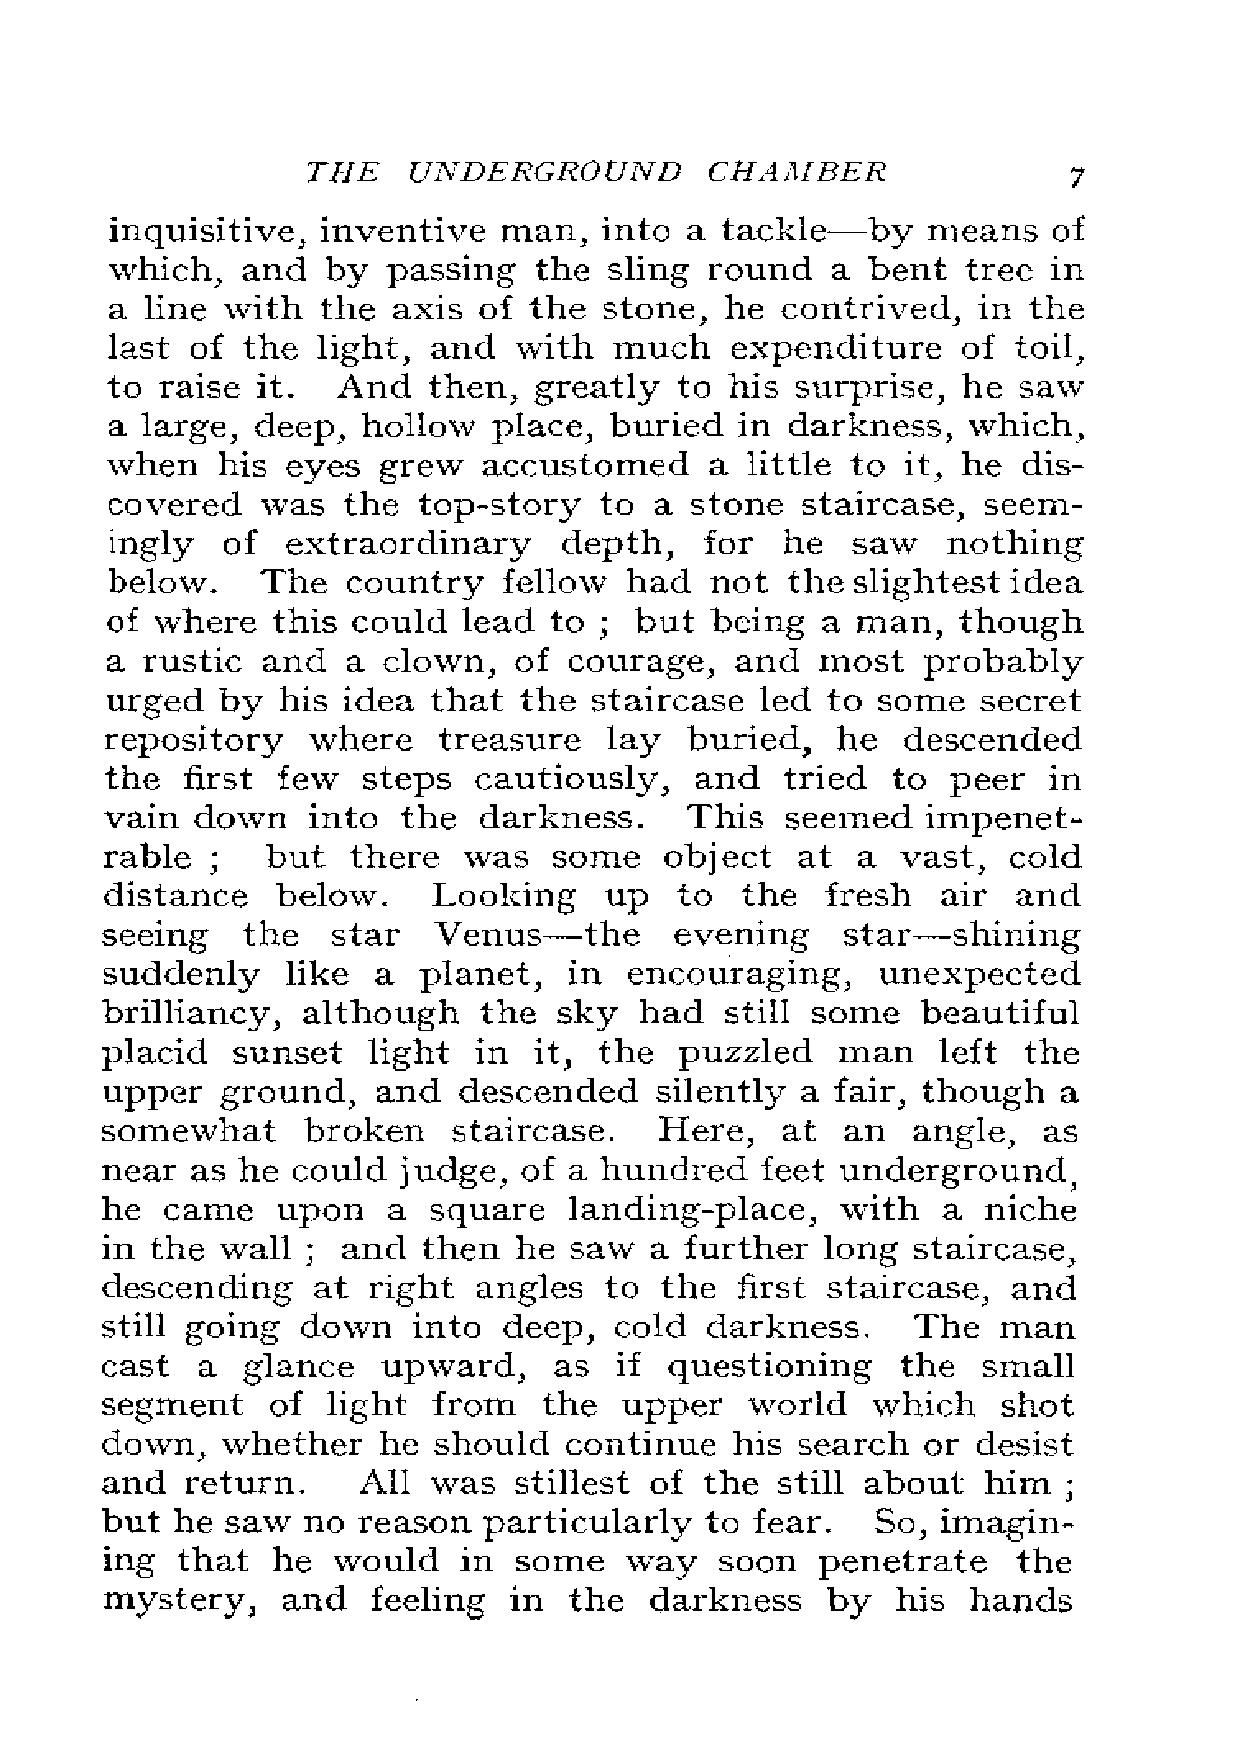content: (97, 208, 1087, 1620)
content_chapter: (303, 157, 887, 183)
content_pagenumber: (1066, 158, 1087, 191)
